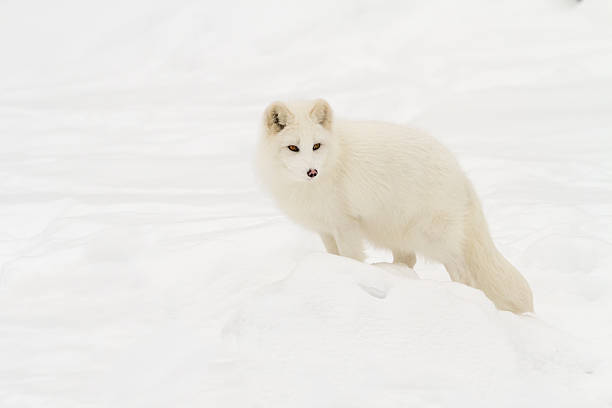arcticfox: (280, 114, 336, 197)
